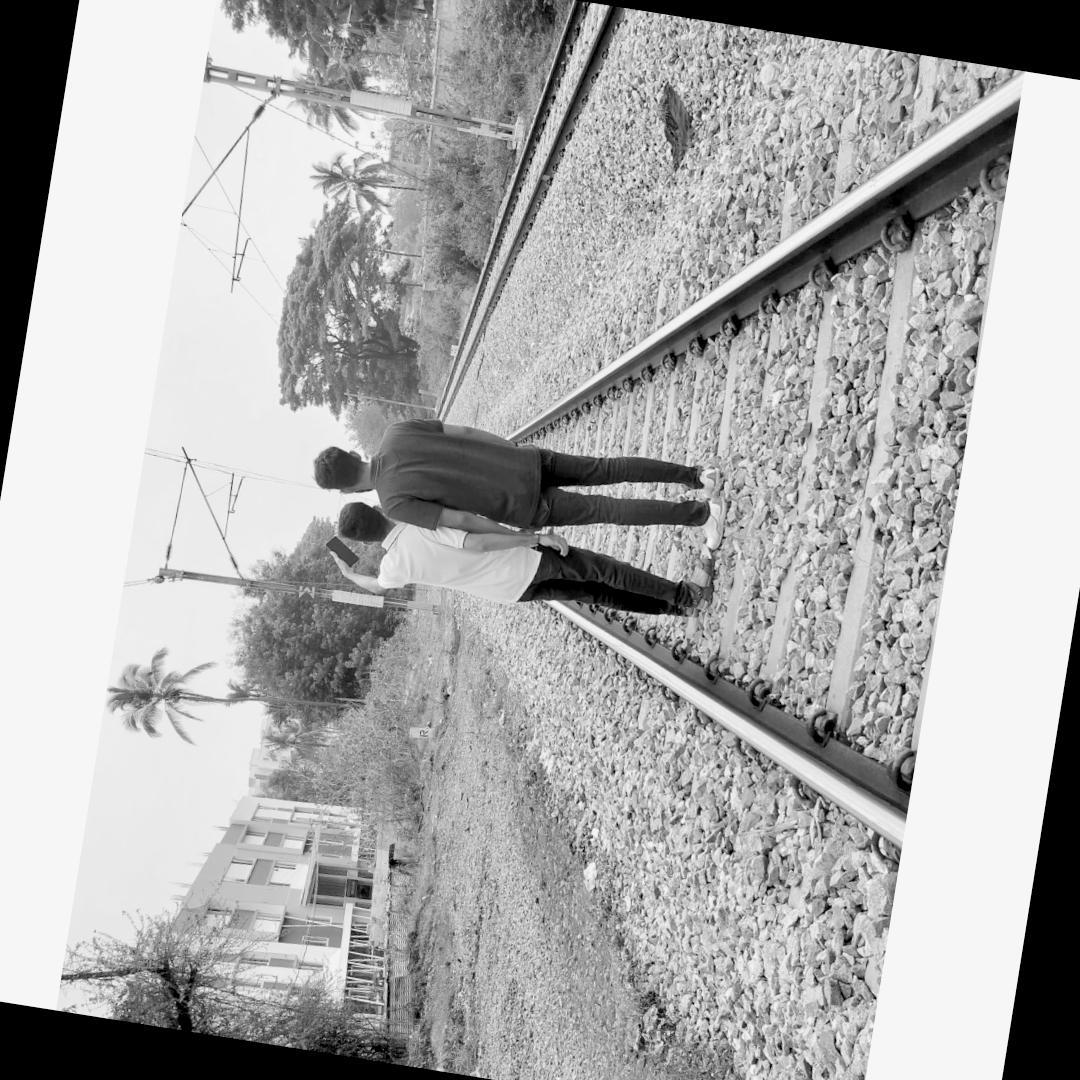standing: (297, 392, 753, 584), (310, 470, 730, 653)
track: (473, 46, 1024, 961)
